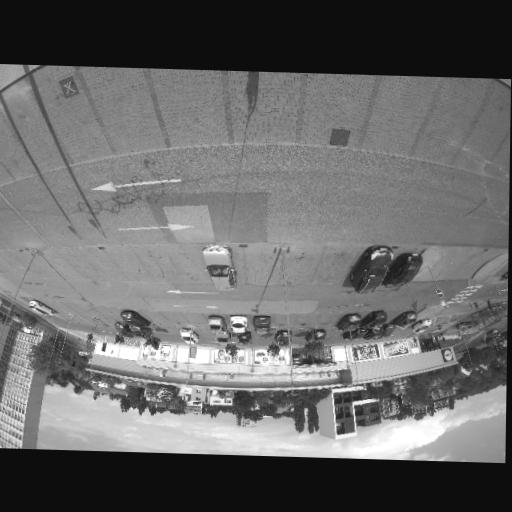busy: (351, 244, 396, 296), (199, 246, 241, 292), (386, 253, 425, 289), (120, 309, 148, 328), (336, 313, 363, 332), (363, 310, 388, 330), (26, 299, 53, 317), (393, 310, 419, 328), (177, 327, 200, 345), (205, 314, 226, 333), (228, 313, 247, 332), (253, 314, 272, 333), (307, 328, 328, 344), (112, 322, 133, 338), (411, 318, 431, 333), (346, 329, 368, 341), (276, 329, 290, 346), (364, 329, 383, 340), (382, 324, 398, 336)
free: (96, 84, 147, 131), (161, 74, 218, 116), (306, 77, 363, 116), (378, 86, 422, 128), (241, 75, 290, 112), (432, 100, 471, 137), (52, 106, 91, 138), (473, 118, 504, 149), (15, 114, 48, 141), (244, 251, 271, 277), (323, 253, 351, 277), (287, 254, 314, 278), (148, 252, 171, 274), (0, 133, 19, 159), (180, 252, 201, 275), (89, 252, 115, 269), (23, 254, 48, 271), (121, 256, 141, 272), (73, 252, 89, 271), (186, 313, 203, 326), (294, 314, 314, 325), (52, 257, 70, 269), (169, 308, 184, 322), (318, 313, 335, 323), (274, 314, 289, 325), (149, 310, 164, 321), (99, 307, 115, 317)
